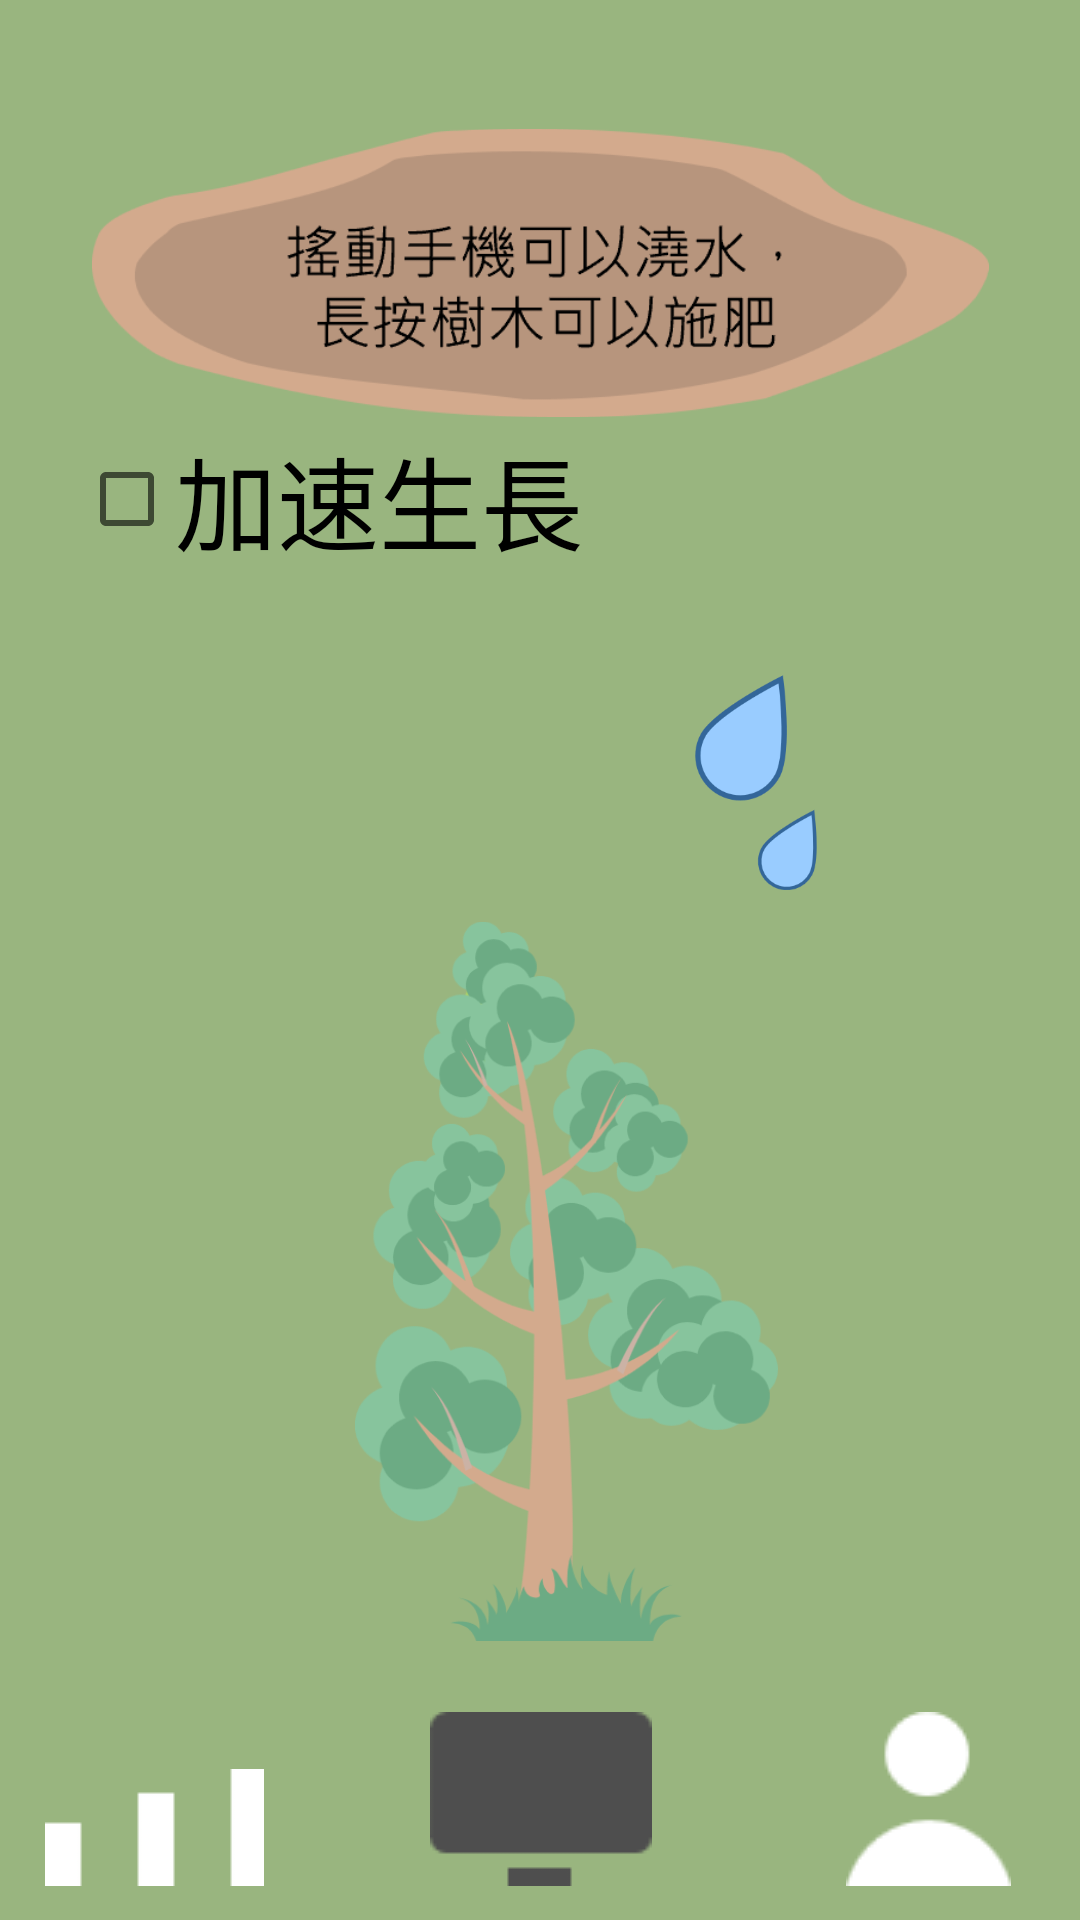

Point at icon controls on the screen. Image size 1080px x 1920px, points as (x=x, y=y).
water: (x=756, y=782)
